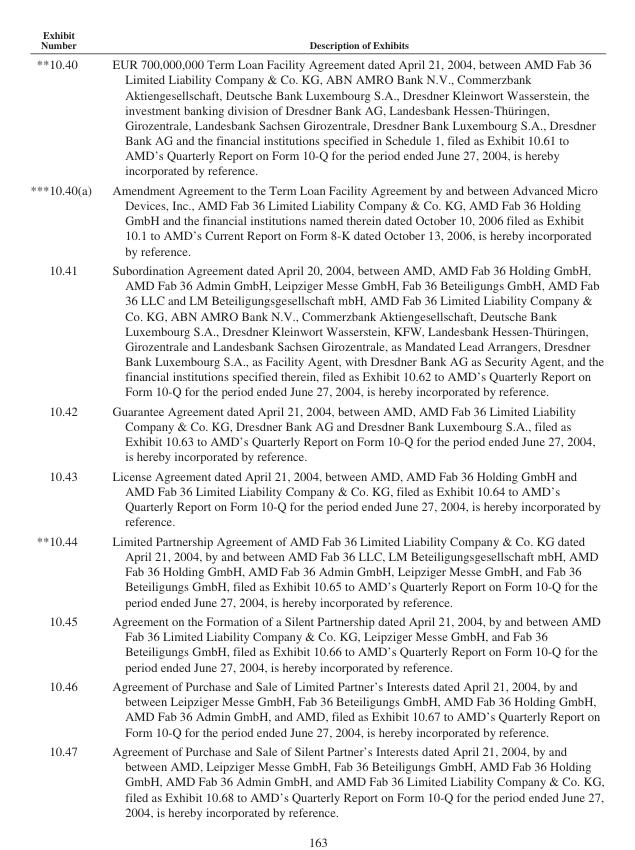table: (29, 28, 603, 818)
table column: (101, 28, 603, 818), (29, 28, 101, 818)
table column header: (29, 28, 603, 53)
table row: (29, 260, 603, 400), (29, 53, 603, 179), (29, 179, 603, 260), (29, 530, 603, 611), (29, 741, 603, 818), (29, 400, 603, 465), (29, 465, 603, 530), (29, 611, 603, 676), (29, 676, 603, 741), (29, 28, 603, 53)
